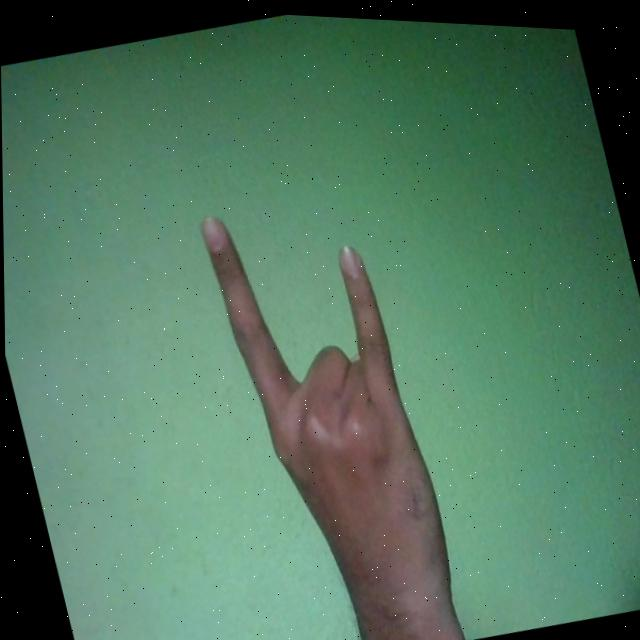Rock On: (194, 177, 463, 640)
